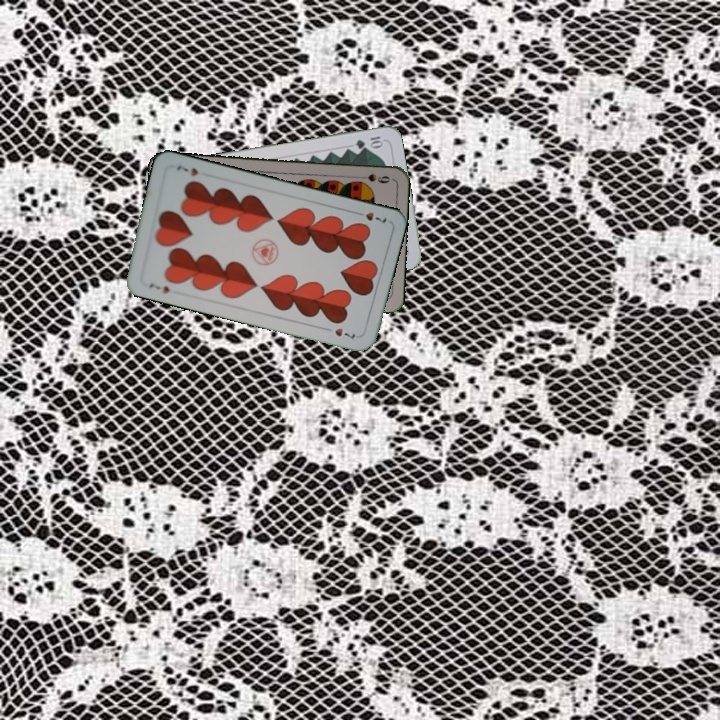G10: (351, 132, 386, 151)
H7: (351, 207, 389, 225), (145, 279, 172, 296)
S9: (352, 170, 392, 186)
